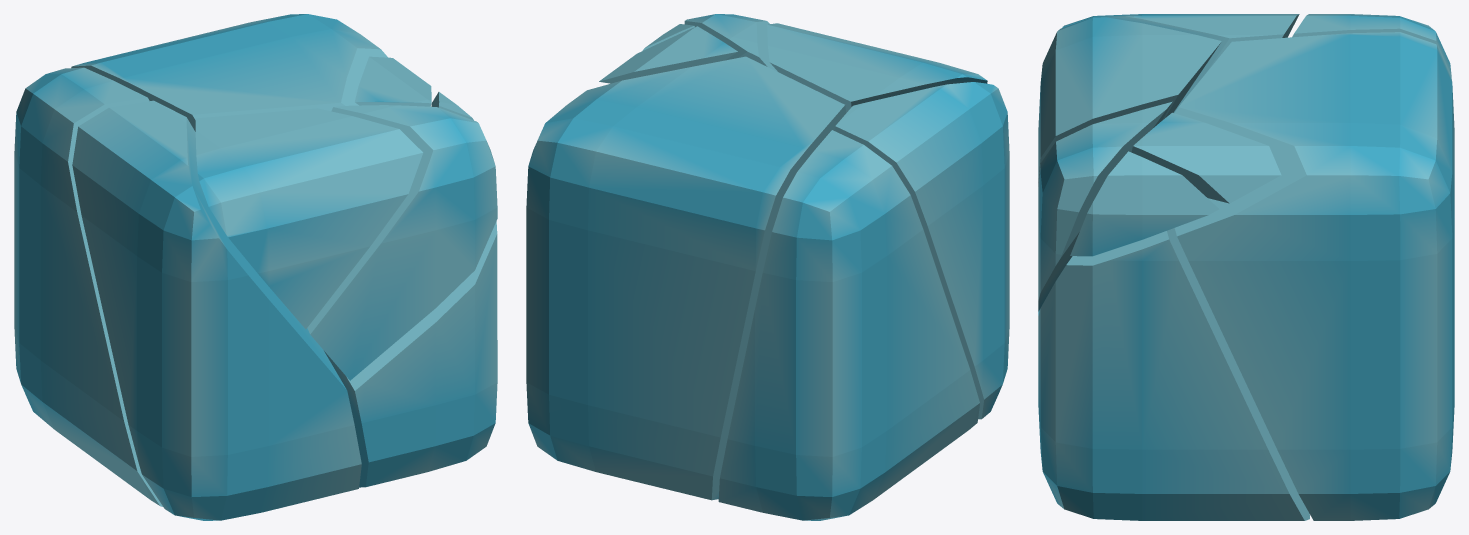
File: iceCube2.fbx
The picture shows the model from 3 angles, left to right: view 1: azimuth 30°, elevation 25°; view 2: azimuth 150°, elevation 25°; view 3: azimuth 270°, elevation 25°; orthographic projection. The views are drawn at different scales.
Visible parts, largest first — view 1: cube_60HP.001; view 2: cube_60HP.001; view 3: cube_60HP.001.
Part boxes in pixels (left/top/right/bottom): cube_60HP.001: left=14, top=14, right=497, bottom=520; cube_60HP.001: left=526, top=14, right=1009, bottom=520; cube_60HP.001: left=1038, top=14, right=1454, bottom=520.
Bounding box in the file's own units: 100 × 100 × 100.
